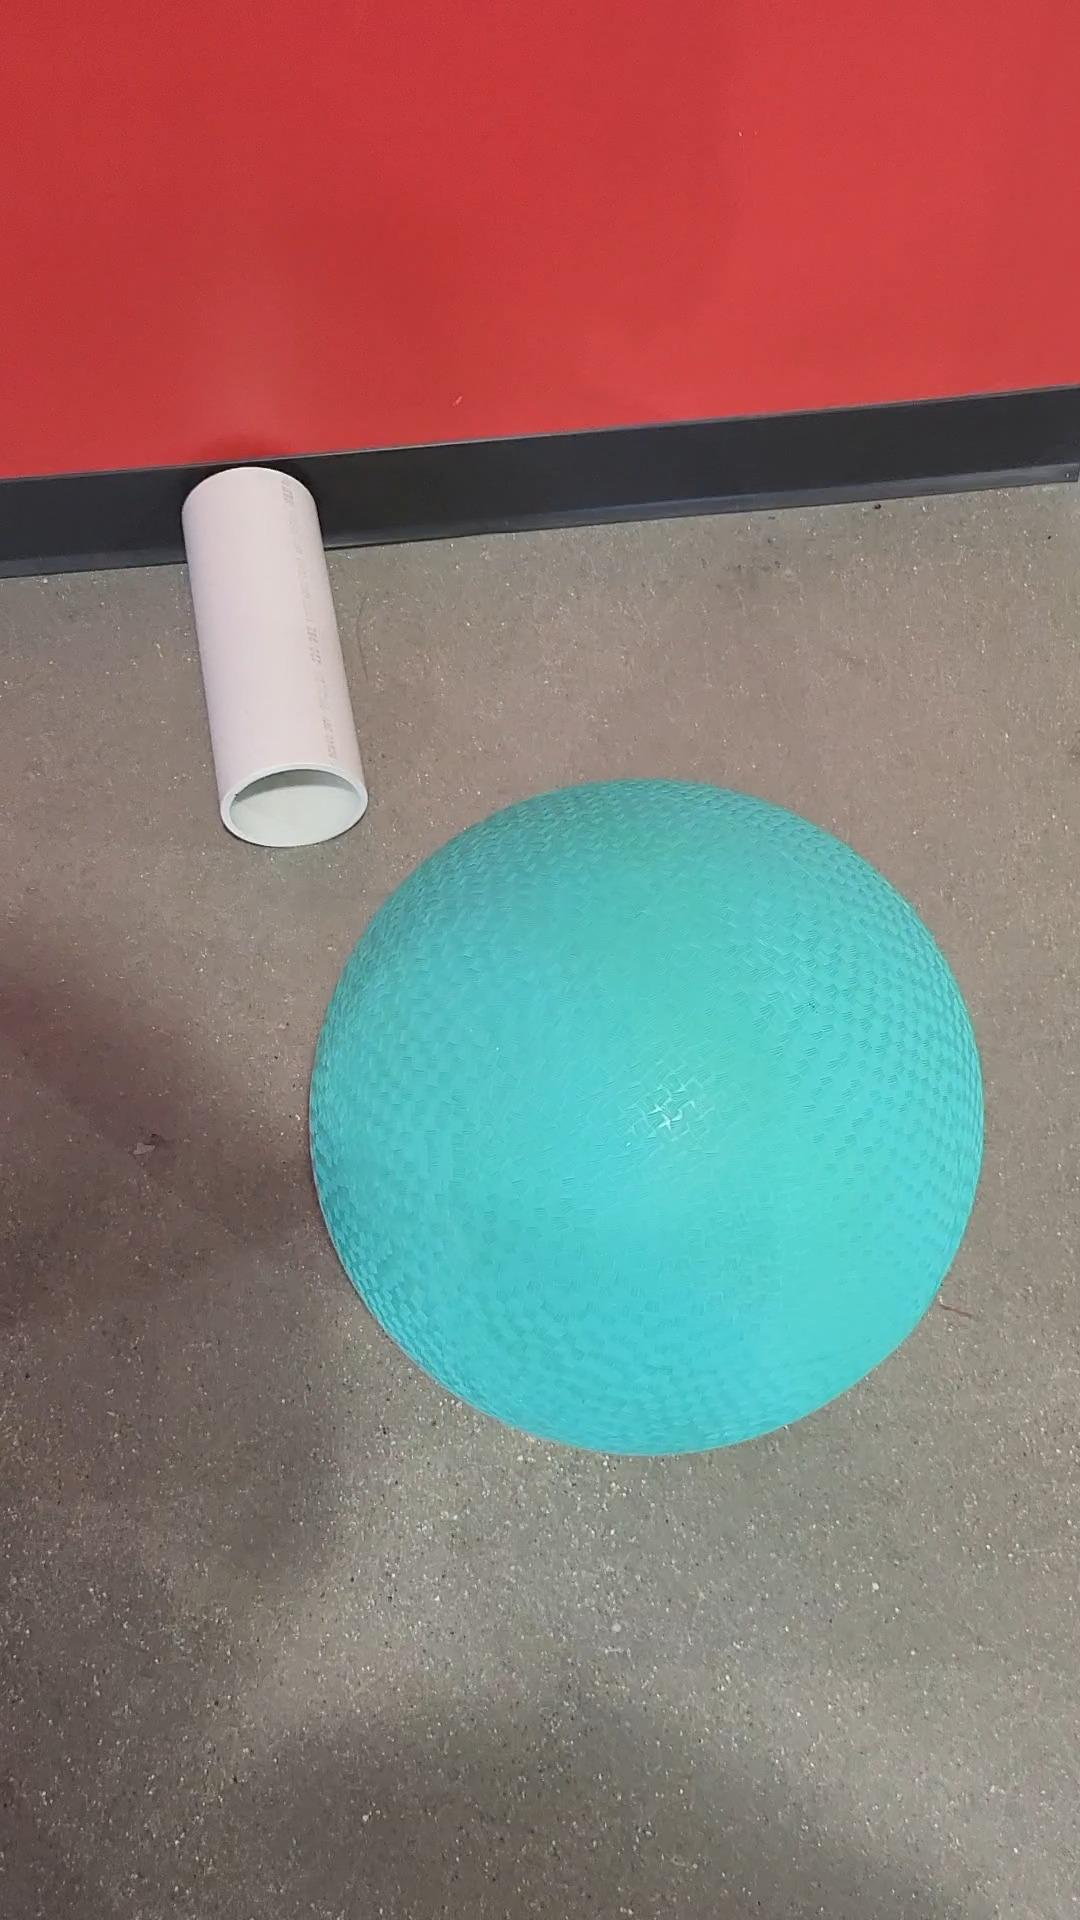algae: (306, 766, 994, 1461)
coral: (171, 456, 363, 861)
